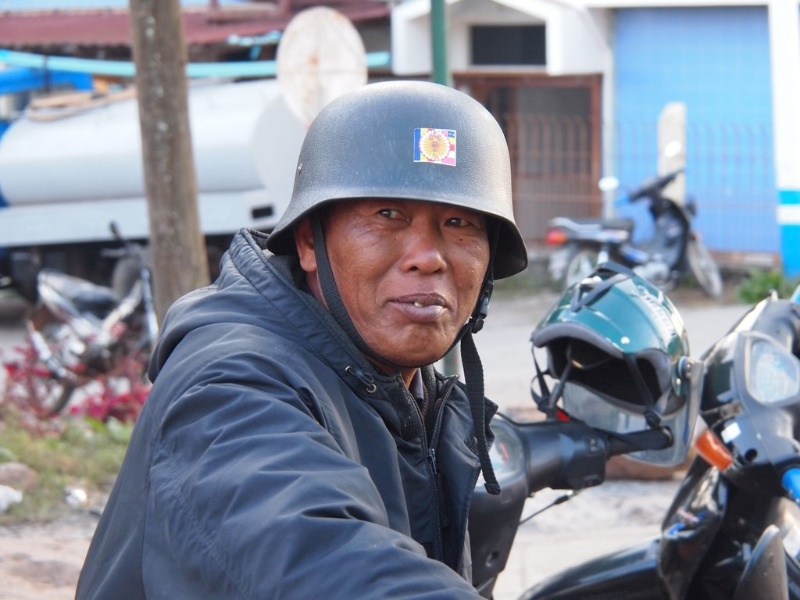Baret: (278, 80, 525, 245)
